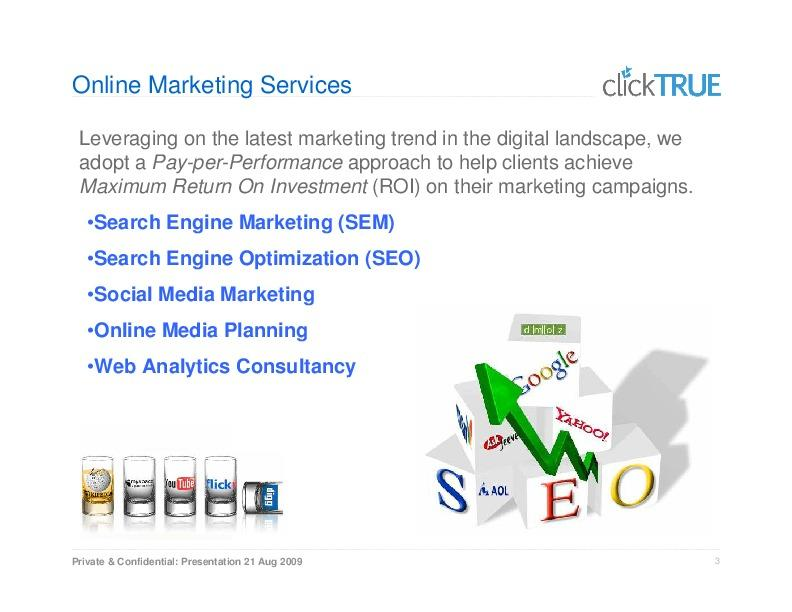paragraph: (71, 120, 753, 431)
title: (67, 65, 363, 107)
